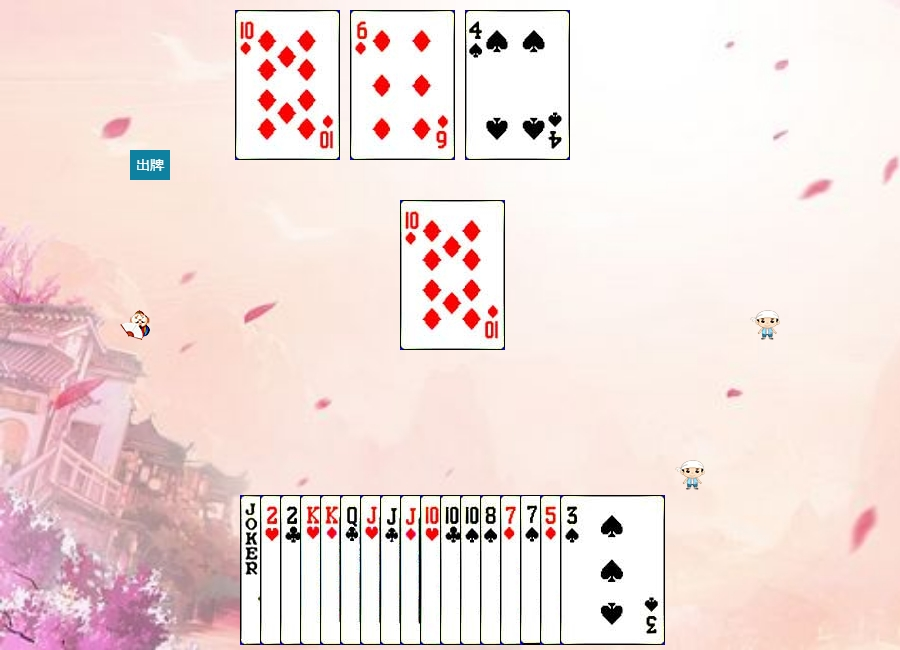10~1: (235, 10, 340, 160), (400, 200, 505, 350)
10~2: (440, 495, 545, 645)
10~3: (420, 495, 525, 645)
10~4: (460, 495, 565, 645)
11~1: (400, 495, 505, 645)
11~2: (380, 495, 485, 645)
11~3: (360, 495, 465, 645)
12~2: (340, 495, 445, 645)
13~1: (320, 495, 425, 645)
13~3: (300, 495, 405, 645)
15~2: (280, 495, 385, 645)
15~3: (260, 495, 365, 645)
17~3: (240, 495, 345, 645)
3~4: (560, 495, 665, 645)
4~4: (465, 10, 570, 160)
5~1: (540, 495, 645, 645)
6~1: (350, 10, 455, 160)
7~1: (500, 495, 605, 645)
7~4: (520, 495, 625, 645)
8~4: (480, 495, 585, 645)
